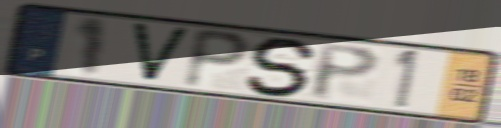1: (70, 16, 106, 79), (391, 48, 423, 113)
P: (179, 25, 255, 91), (309, 41, 383, 103)
S: (243, 35, 323, 99)
V: (128, 19, 195, 85)
